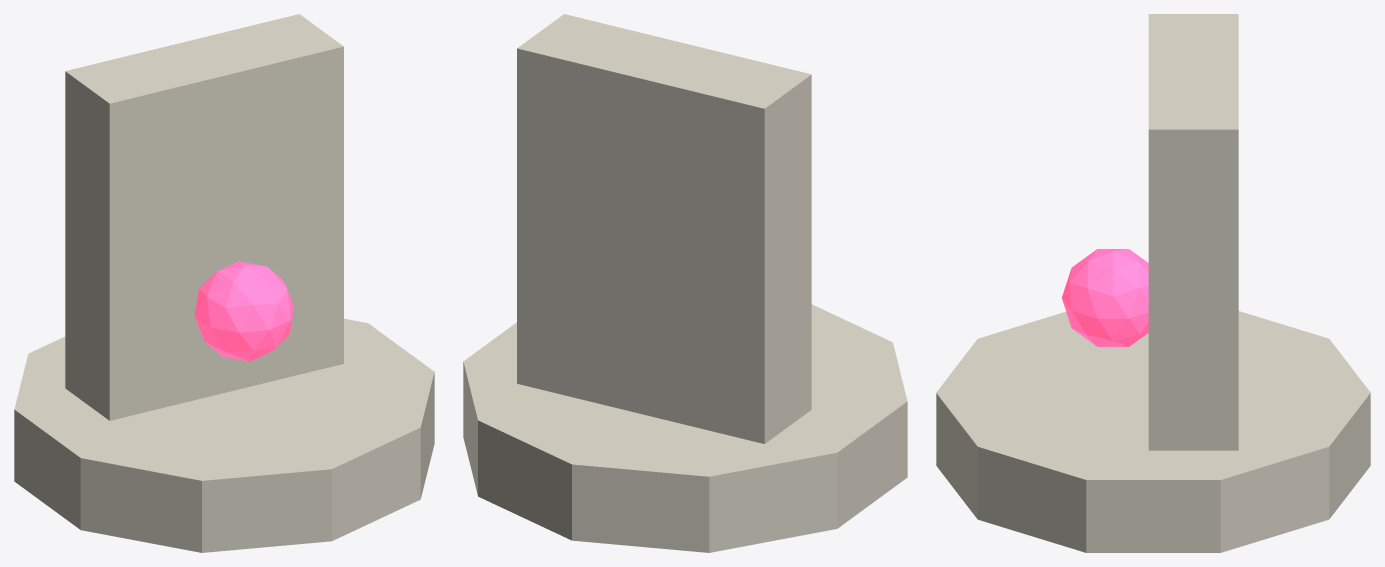
File: bone_reliquary_throne.glb
3 renders of one model, left to right at view 1: azimuth 30°, elevation 25°; view 2: azimuth 150°, elevation 25°; view 3: azimuth 270°, elevation 25°, orthographic. The views are drawn at different scales.
Visible parts, largest first — view 1: Cube, Cylinder, Icosphere; view 2: Cube, Cylinder; view 3: Cylinder, Cube, Icosphere.
Part boxes in pixels (box(x1,y1,x2,y2)): Cube: box(65, 14, 343, 420); Cylinder: box(14, 318, 434, 552); Icosphere: box(194, 261, 293, 361); Cube: box(517, 14, 811, 443); Cylinder: box(463, 304, 907, 552); Cylinder: box(936, 311, 1370, 552); Cube: box(1148, 14, 1238, 450); Icosphere: box(1062, 249, 1148, 346).
Bounding box in the file's own units: 2.57 × 2.7 × 2.7.
